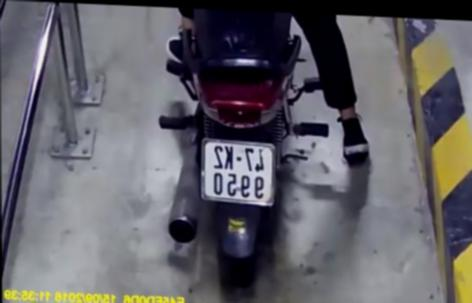License_Plate: (192, 136, 282, 207)
